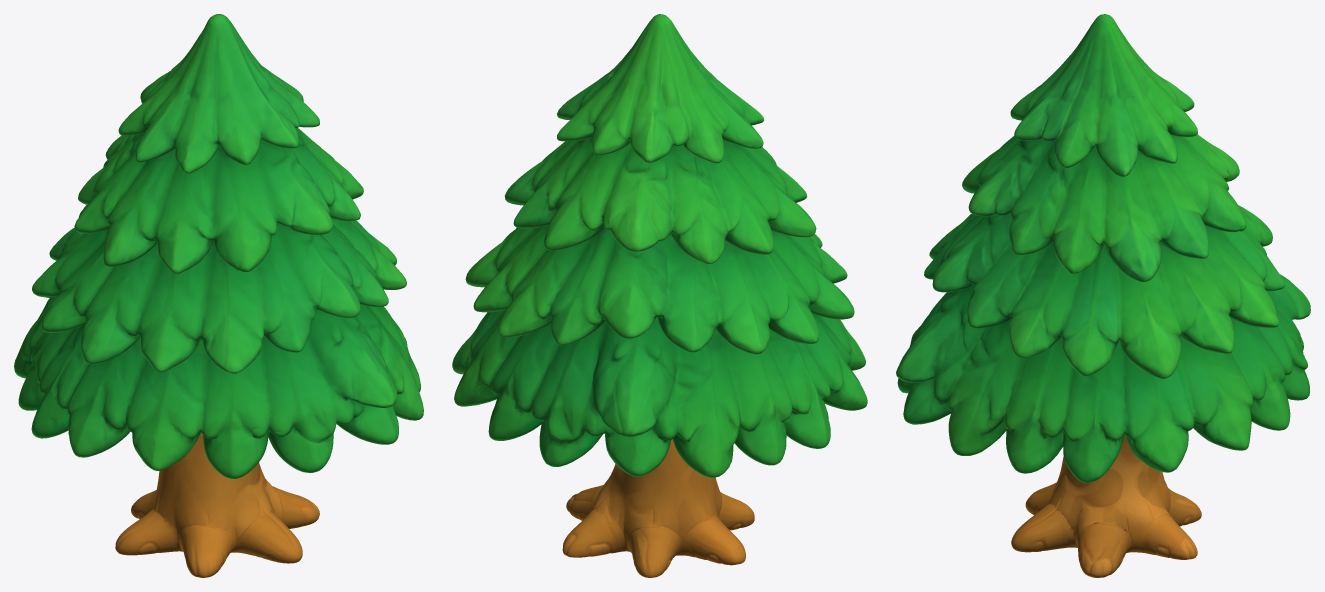
The model's file is texture.glb.
3 renders of one model, left to right at view 1: azimuth 30°, elevation 25°; view 2: azimuth 150°, elevation 25°; view 3: azimuth 270°, elevation 25°, orthographic.
Parts seen in each view (by area): view 1: tripo_node_3de8c105-e83b-4284-879c-751c20e098f1; view 2: tripo_node_3de8c105-e83b-4284-879c-751c20e098f1; view 3: tripo_node_3de8c105-e83b-4284-879c-751c20e098f1.
Boxes of the visible parts, <box> form: tripo_node_3de8c105-e83b-4284-879c-751c20e098f1: <box>14,14,423,577</box>; tripo_node_3de8c105-e83b-4284-879c-751c20e098f1: <box>452,14,867,577</box>; tripo_node_3de8c105-e83b-4284-879c-751c20e098f1: <box>896,14,1310,577</box>.
Bounding box in the file's own units: 0.6959 × 0.9802 × 0.7116.
1 material, 1 textured.
